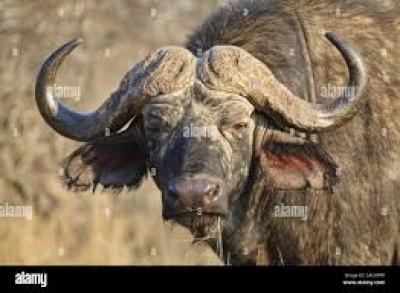buffalo: (39, 42, 270, 228), (273, 77, 331, 129)
